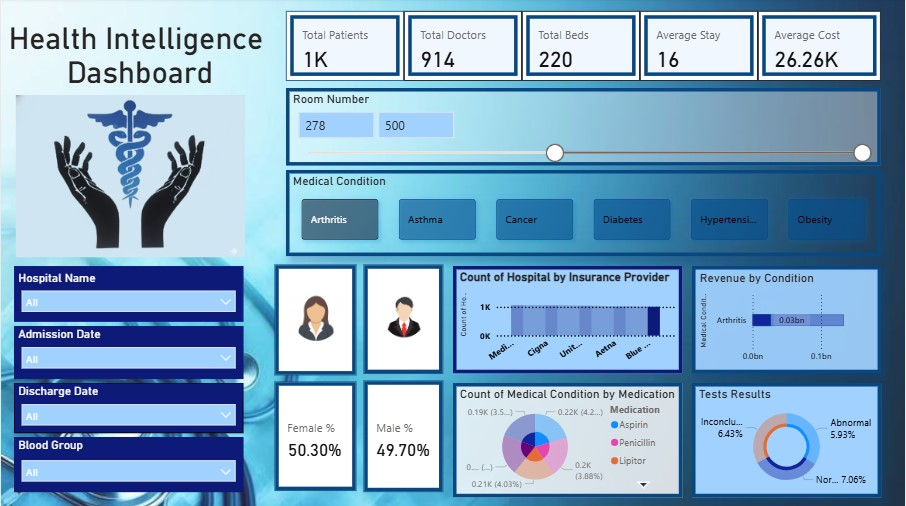

Layout of this report page (visuals, bound fields, positions):
{"tool":"powerbi","page":{"name":"Page 1","canvas":[1280,720],"ordinal":0},"visuals":[{"type":"cardVisual","fields":{"Data":["healthcare_dataset.Total Patients"]},"box":[404.3,18.6,167.1,98.6],"z":0},{"type":"cardVisual","fields":{"Data":["healthcare_dataset.Average Stay"]},"box":[905.7,18.6,167.1,98.6],"z":1000},{"type":"cardVisual","fields":{"Data":["healthcare_dataset.Average Cost"]},"box":[1072.9,18.6,174.3,98.6],"z":2000},{"type":"cardVisual","fields":{"Data":["healthcare_dataset.Total Beds"]},"box":[738.6,18.6,167.1,98.6],"z":3000},{"type":"slicer","title":"Hospital Name","fields":{"Values":["healthcare_dataset.Hospital"]},"box":[18.4,286.3,324.6,79.4],"z":4000},{"type":"slicer","title":"Room Number","fields":{"Values":["healthcare_dataset.Room Number"]},"box":[404.3,127.1,842.9,110],"z":5000},{"type":"clusteredBarChart","title":"Revenue by  Condition","fields":{"Category":["healthcare_dataset.Medical Condition"],"Y":["healthcare_dataset.Revenue by Condition"]},"box":[674.6,379.8,572.6,151.7],"z":6000},{"type":"donutChart","title":"Tests Results","fields":{"Category":["healthcare_dataset.Test Results"],"Y":["healthcare_dataset.Total Tests"]},"box":[674.6,545.7,572.6,161.6],"z":7000},{"type":"cardVisual","fields":{"Data":["healthcare_dataset.Total Doctors"]},"box":[571.4,18.6,167.1,98.6],"z":8000},{"type":"slicer","title":"Admission Date","fields":{"Values":["healthcare_dataset.Date of Admission.Variation.Date Hierarchy.Year","healthcare_dataset.Date of Admission.Variation.Date Hierarchy.Quarter","healthcare_dataset.Date of Admission.Variation.Date Hierarchy.Month","healthcare_dataset.Date of Admission.Variation.Date Hierarchy.Day"]},"box":[18.4,379.8,324.6,75.1],"z":9000},{"type":"slicer","title":"Discharge Date","fields":{"Values":["healthcare_dataset.Discharge Date.Variation.Date Hierarchy.Year","healthcare_dataset.Discharge Date.Variation.Date Hierarchy.Quarter","healthcare_dataset.Discharge Date.Variation.Date Hierarchy.Month","healthcare_dataset.Discharge Date.Variation.Date Hierarchy.Day"]},"box":[18.4,460.6,324.6,70.9],"z":10000},{"type":"slicer","fields":{"Values":["healthcare_dataset.Blood Type"]},"box":[18.4,534.3,324.6,73.7],"z":11000},{"type":"cardVisual","fields":{"Data":["healthcare_dataset.Total Male"]},"box":[508.8,426.6,123.3,126.1],"z":12000},{"type":"cardVisual","fields":{"Data":["healthcare_dataset.Male %"]},"box":[508.8,571.2,123.3,123.3],"z":13000},{"type":"cardVisual","fields":{"Data":["healthcare_dataset.Female %"]},"box":[361.4,571.2,126.1,123.3],"z":14000},{"type":"cardVisual","fields":{"Data":["healthcare_dataset.Total Female"]},"box":[361.4,426.6,126.1,127.6],"z":15000},{"type":"slicer","fields":{"Values":["healthcare_dataset.Insurance Provider"]},"box":[18.4,615.1,324.6,79.4],"z":16000},{"type":"cardVisual","fields":{"Data":["healthcare_dataset.Total Patients"]},"box":[0,60.9,371.3,214],"z":17000},{"type":"advancedSlicerVisual","fields":{"Values":["healthcare_dataset.Medical Condition"]},"box":[403.9,243.8,843.3,121.9],"z":18000},{"type":"card","fields":{"Values":["healthcare_dataset.title"]},"box":[0,0,382.7,79.4],"z":19000}]}

Visuals, with their boxes in screenshot pixels (x1, y1, x2, y2), scaled from the page's 1280x720 canvas onto the 906x506 screenshot:
cardVisual - healthcare_dataset.Total Patients: 286, 13, 404, 82
cardVisual - healthcare_dataset.Average Stay: 641, 13, 759, 82
cardVisual - healthcare_dataset.Average Cost: 759, 13, 883, 82
cardVisual - healthcare_dataset.Total Beds: 523, 13, 641, 82
"Hospital Name" slicer: 13, 201, 243, 257
"Room Number" slicer: 286, 89, 883, 167
"Revenue by  Condition" clusteredBarChart: 477, 267, 883, 374
"Tests Results" donutChart: 477, 384, 883, 497
cardVisual - healthcare_dataset.Total Doctors: 404, 13, 523, 82
"Admission Date" slicer: 13, 267, 243, 320
"Discharge Date" slicer: 13, 324, 243, 374
slicer - healthcare_dataset.Blood Type: 13, 375, 243, 427
cardVisual - healthcare_dataset.Total Male: 360, 300, 447, 388
cardVisual - healthcare_dataset.Male %: 360, 401, 447, 488
cardVisual - healthcare_dataset.Female %: 256, 401, 345, 488
cardVisual - healthcare_dataset.Total Female: 256, 300, 345, 389
slicer - healthcare_dataset.Insurance Provider: 13, 432, 243, 488
cardVisual - healthcare_dataset.Total Patients: 0, 43, 263, 193
advancedSlicerVisual - healthcare_dataset.Medical Condition: 286, 171, 883, 257
card - healthcare_dataset.title: 0, 0, 271, 56
